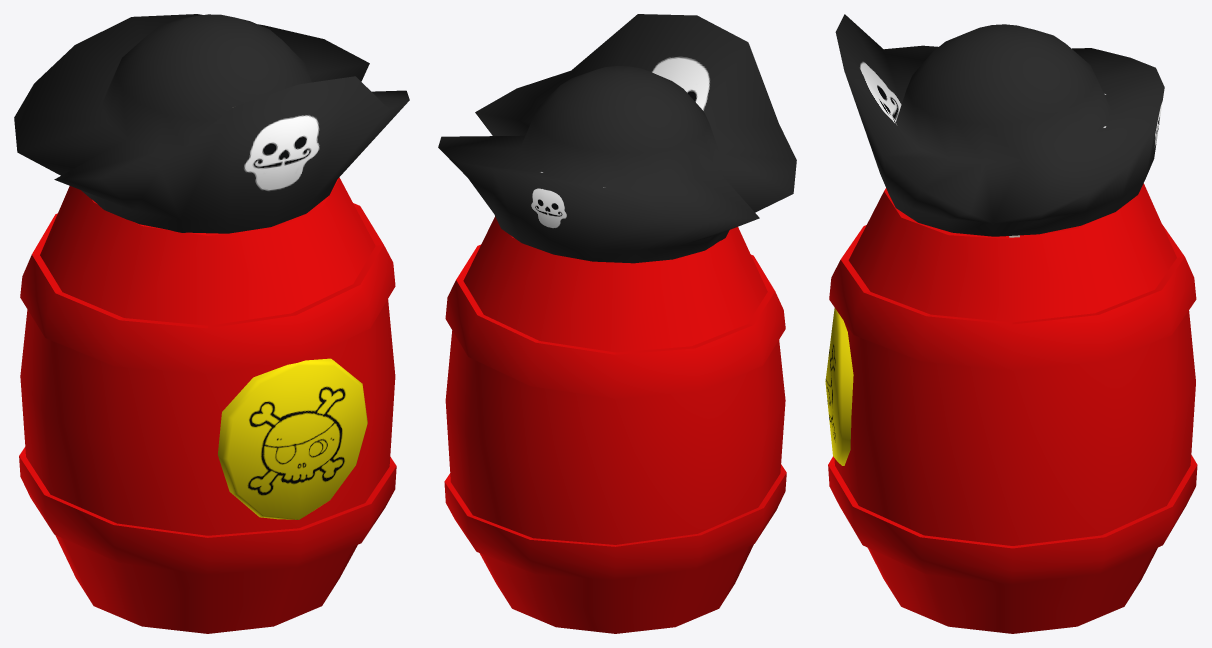
File: JackBoxPirateCaptain.FBX
3 renders of one model, left to right at view 1: azimuth 30°, elevation 25°; view 2: azimuth 150°, elevation 25°; view 3: azimuth 270°, elevation 25°, orthographic. The views are drawn at different scales.
Visible parts, largest first — view 1: JackBoxPirateCaptainBarrel, JackBoxPirateCaptain, JackBoxPirateCaptainPush; view 2: JackBoxPirateCaptainBarrel, JackBoxPirateCaptain; view 3: JackBoxPirateCaptainBarrel, JackBoxPirateCaptain, JackBoxPirateCaptainPush.
Boxes of the visible parts, box(x1,y1,x2,y2) form: JackBoxPirateCaptainBarrel: box(19, 177, 396, 633); JackBoxPirateCaptain: box(14, 14, 409, 233); JackBoxPirateCaptainPush: box(217, 358, 367, 519); JackBoxPirateCaptainBarrel: box(444, 216, 786, 633); JackBoxPirateCaptain: box(438, 14, 796, 263); JackBoxPirateCaptainBarrel: box(828, 183, 1197, 633); JackBoxPirateCaptain: box(835, 14, 1164, 237); JackBoxPirateCaptainPush: box(825, 308, 853, 465).
Bounding box in the file's own units: 1.11 × 1.68 × 1.03.
